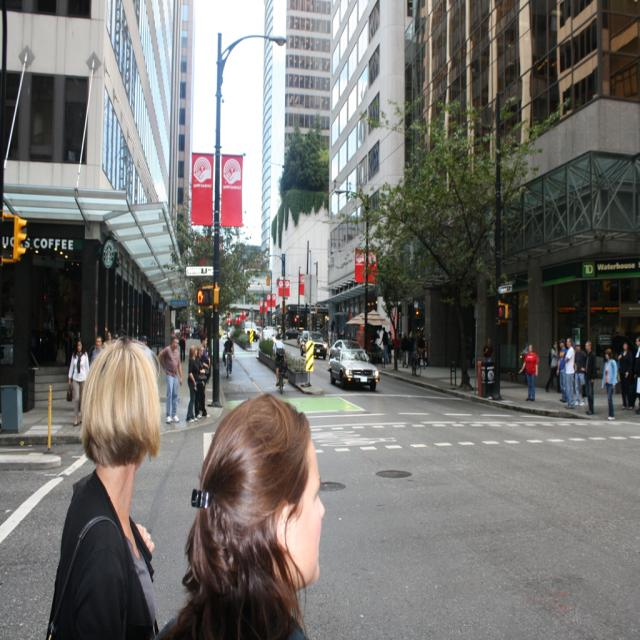car: (325, 346, 378, 398), (301, 332, 330, 360), (263, 326, 276, 341)
